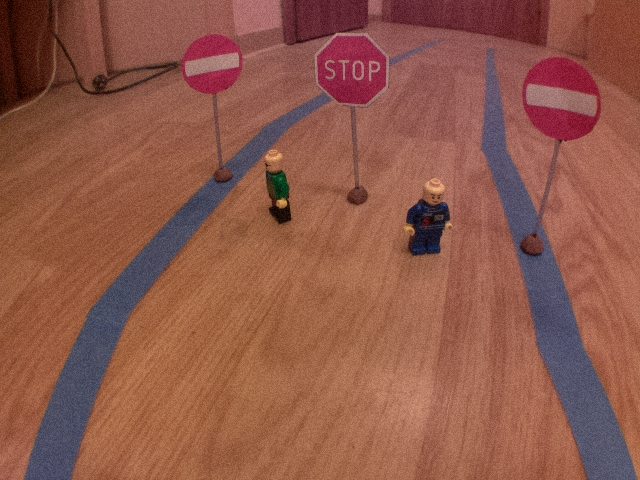LEGO_person: (396, 177, 458, 261), (258, 146, 295, 228)
stop: (311, 31, 393, 109)
zakaz: (521, 55, 603, 143), (180, 33, 247, 97)
